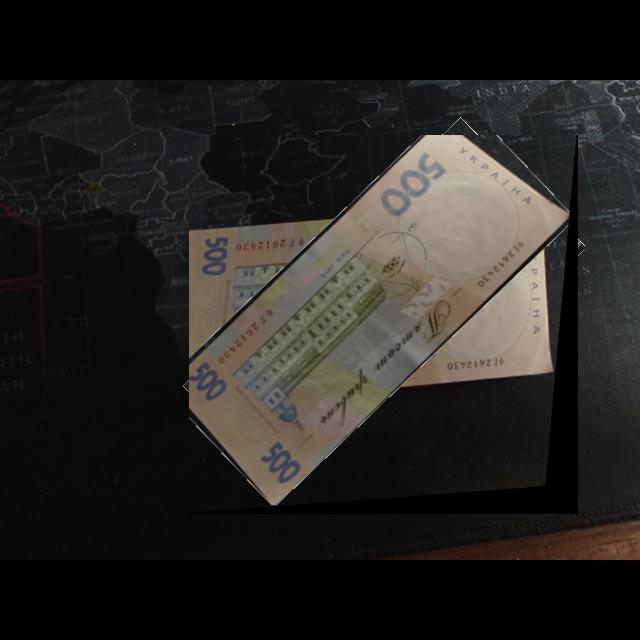500uah: (189, 135, 572, 508)
